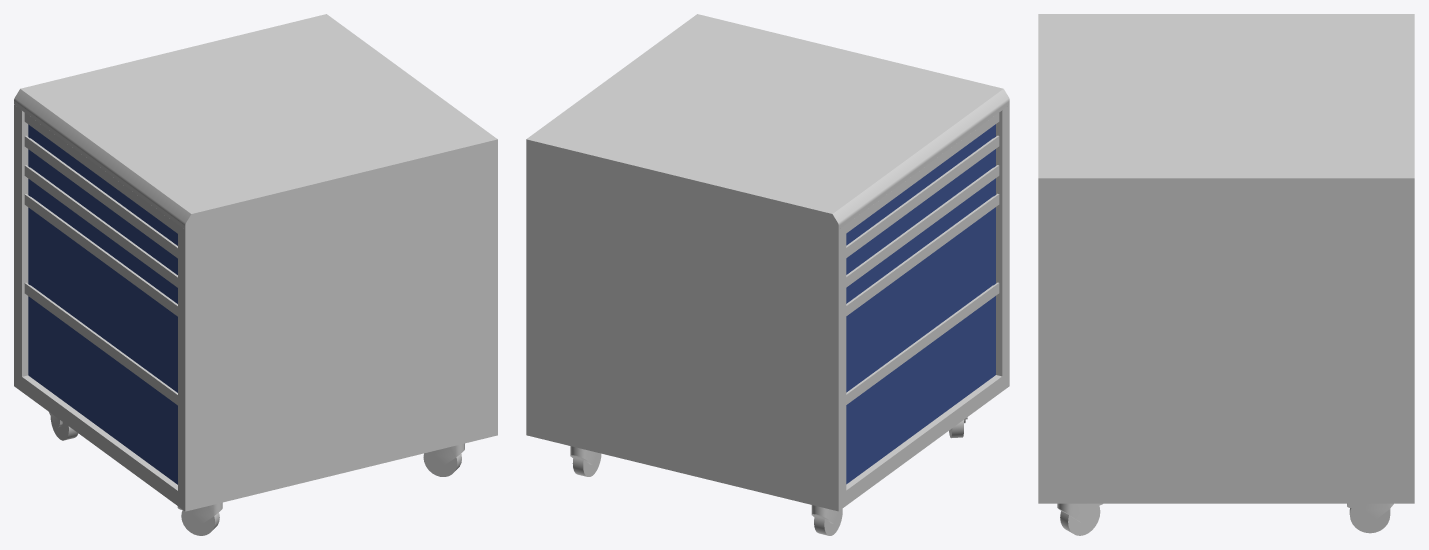
3 views of the same model, side by side, from view 1: azimuth 30°, elevation 25°; view 2: azimuth 150°, elevation 25°; view 3: azimuth 270°, elevation 25° (orthographic). The views are drawn at different scales.
Parts seen in each view (by area): view 1: SM_H_Industrial_Tools_Cabinet_01D; view 2: SM_H_Industrial_Tools_Cabinet_01D; view 3: SM_H_Industrial_Tools_Cabinet_01D.
Boxes of the visible parts, left/top/right/bottom form: SM_H_Industrial_Tools_Cabinet_01D: left=14, top=14, right=497, bottom=535; SM_H_Industrial_Tools_Cabinet_01D: left=526, top=14, right=1009, bottom=535; SM_H_Industrial_Tools_Cabinet_01D: left=1038, top=14, right=1414, bottom=535.
Bounding box in the file's own units: 30.43 × 32.06 × 33.37.
